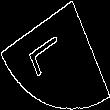L_NE: (33, 29, 77, 81)
